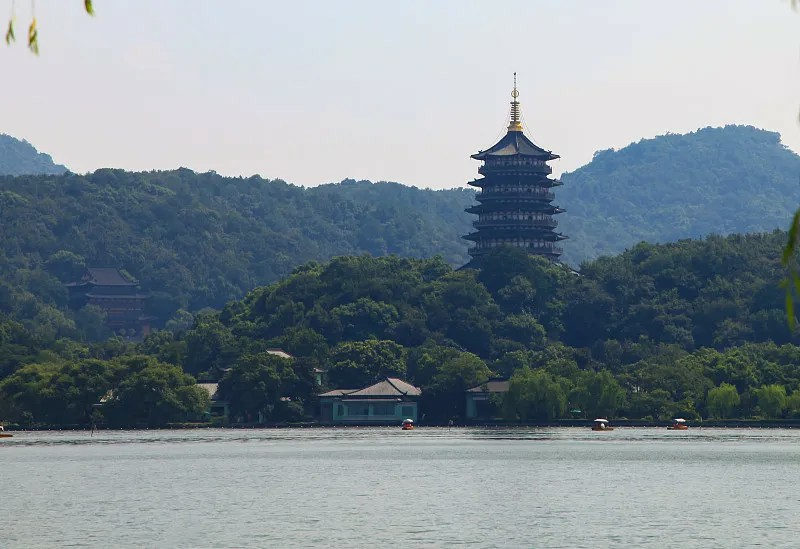Leifeng: (453, 72, 571, 282)
